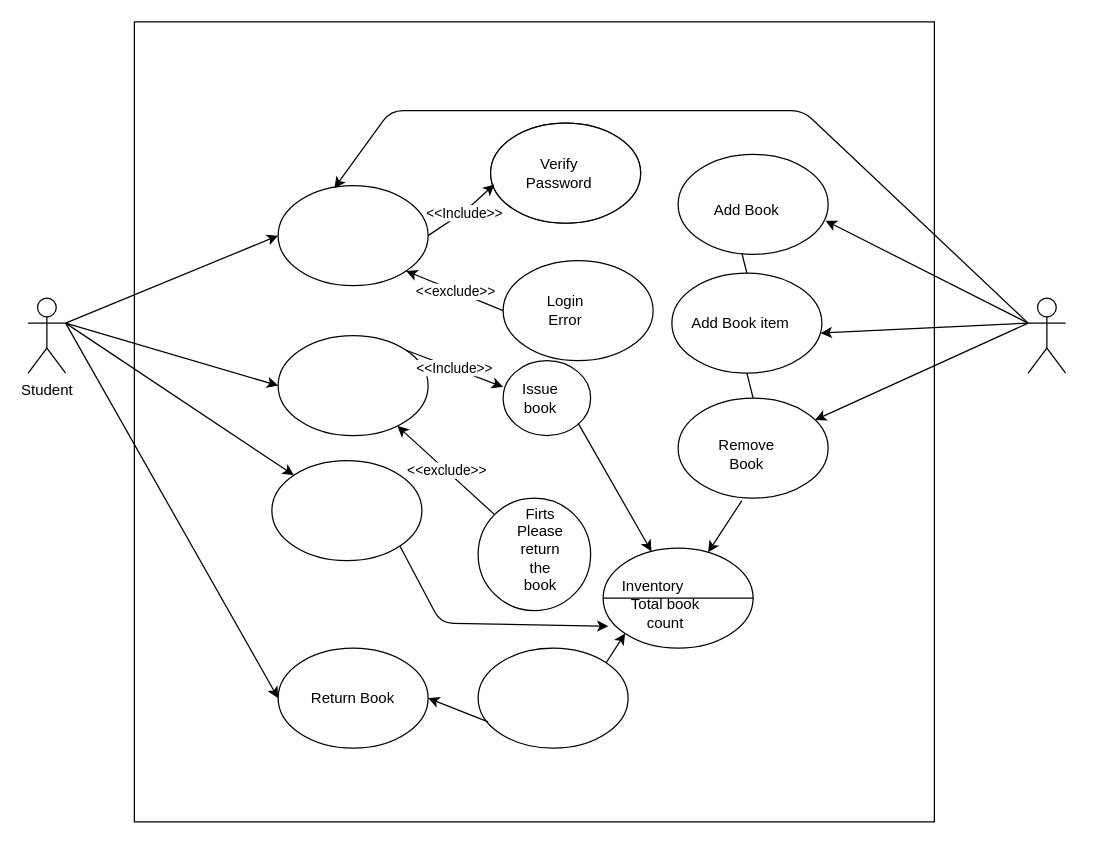
Some shapes in this 1098 by 844 pixel diagram are drawn without their labels. The centre of each missing label's shape, as x and y in pixels:
"Get Book" belongs at (352,385).
"Librarian" belongs at (1046,335).
"Login" belongs at (352,235).
"search" belongs at (346,510).
"Thanks for returning the book" belongs at (552,697).
